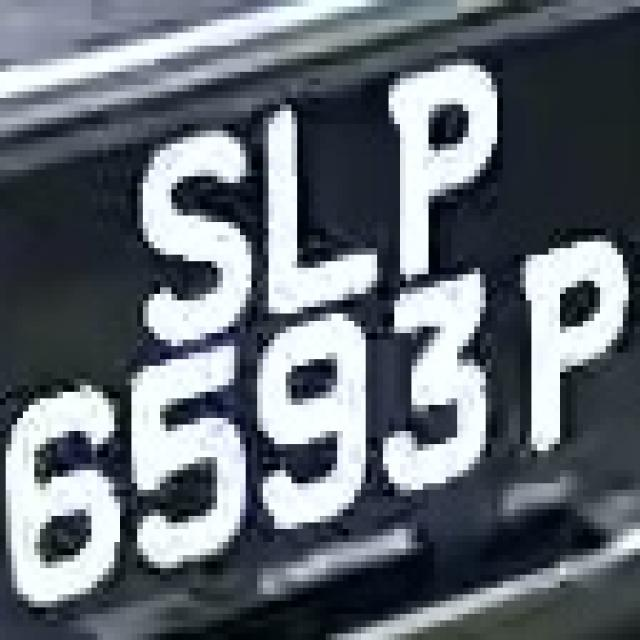3: (366, 261, 508, 516)
5: (108, 353, 263, 581)
6: (6, 366, 131, 634)
9: (251, 287, 383, 542)
L: (228, 79, 372, 314)
P: (372, 46, 508, 287), (503, 248, 640, 464)
S: (120, 111, 257, 353)
